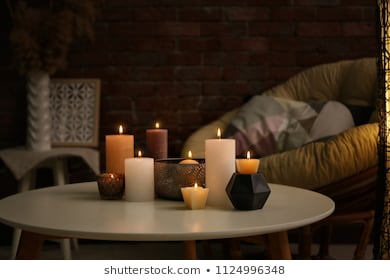Fire: (115, 121, 126, 134), (215, 125, 224, 140), (134, 146, 144, 158), (154, 121, 161, 129), (188, 148, 193, 159), (246, 149, 251, 159), (194, 180, 198, 188)
